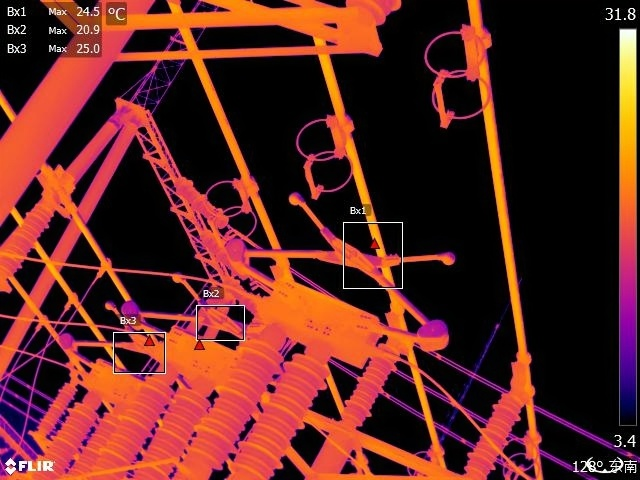post insulator: (169, 327, 285, 480), (220, 343, 328, 480), (99, 365, 171, 480), (134, 374, 209, 480), (21, 397, 91, 480), (463, 392, 526, 480), (337, 345, 397, 425), (1, 201, 50, 281), (67, 411, 117, 480), (35, 380, 73, 438)
switch: (231, 170, 456, 351), (129, 267, 248, 353), (68, 319, 169, 388)
